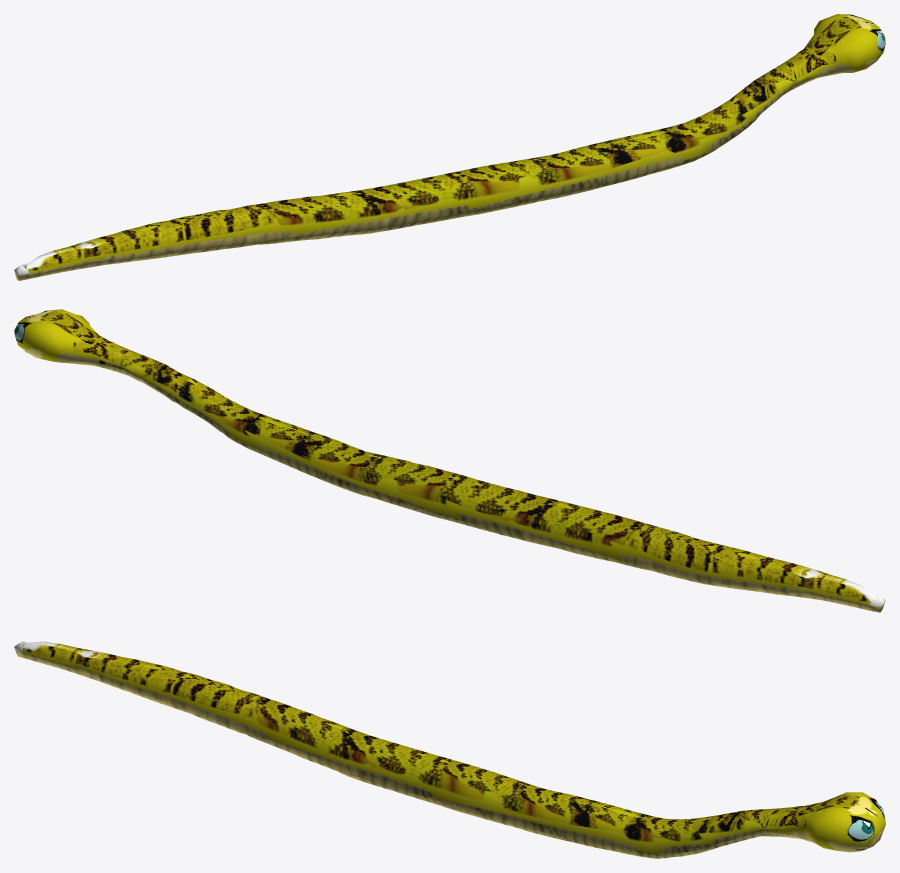
Rendered from snake_aug_2.obj.
3 renders of one model, top to bottom at view 1: azimuth 30°, elevation 25°; view 2: azimuth 150°, elevation 25°; view 3: azimuth 330°, elevation 25°, orthographic. The views are drawn at different scales.
Bounding box in the file's own units: 99.11 × 11.13 × 9.56.
1 material, 1 textured.
